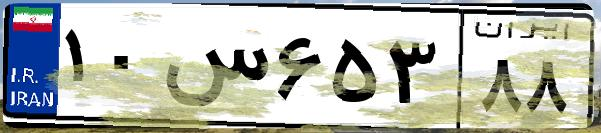0: (110, 28, 158, 98)
1: (57, 26, 110, 100)
3: (385, 28, 445, 110)
5: (330, 28, 385, 110)
6: (270, 28, 330, 110)
8: (475, 38, 525, 113), (525, 38, 570, 115)
س: (158, 20, 270, 120)
